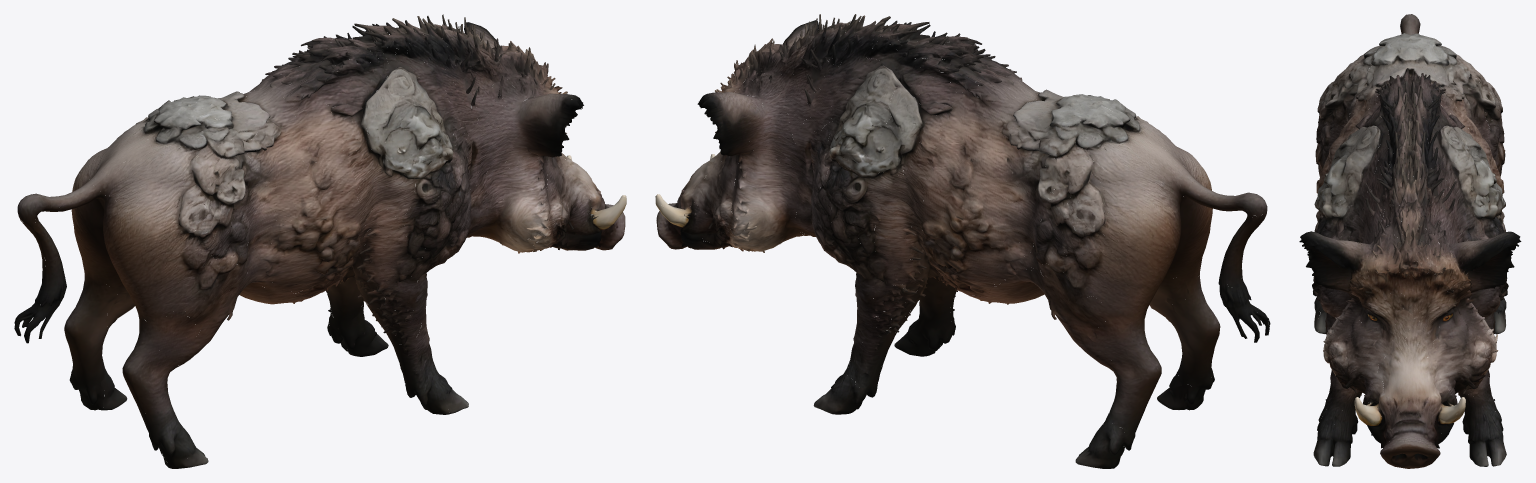
File: RockBoarNear.glb
The picture shows the model from 3 angles, left to right: view 1: azimuth 30°, elevation 25°; view 2: azimuth 150°, elevation 25°; view 3: azimuth 270°, elevation 25°; orthographic projection. The views are drawn at different scales.
Parts seen in each view (by area): view 1: tripo_node_28f57ff9-b978-468c-8c2a-6136e0a65ea1; view 2: tripo_node_28f57ff9-b978-468c-8c2a-6136e0a65ea1; view 3: tripo_node_28f57ff9-b978-468c-8c2a-6136e0a65ea1.
Part boxes in pixels (bbox=[...]): tripo_node_28f57ff9-b978-468c-8c2a-6136e0a65ea1: bbox=[14, 14, 626, 468]; tripo_node_28f57ff9-b978-468c-8c2a-6136e0a65ea1: bbox=[655, 14, 1270, 468]; tripo_node_28f57ff9-b978-468c-8c2a-6136e0a65ea1: bbox=[1299, 14, 1521, 468].
Size of the model in its own units: 1 by 0.5735 by 0.3292.
Materials: 1 (1 with a texture image).
